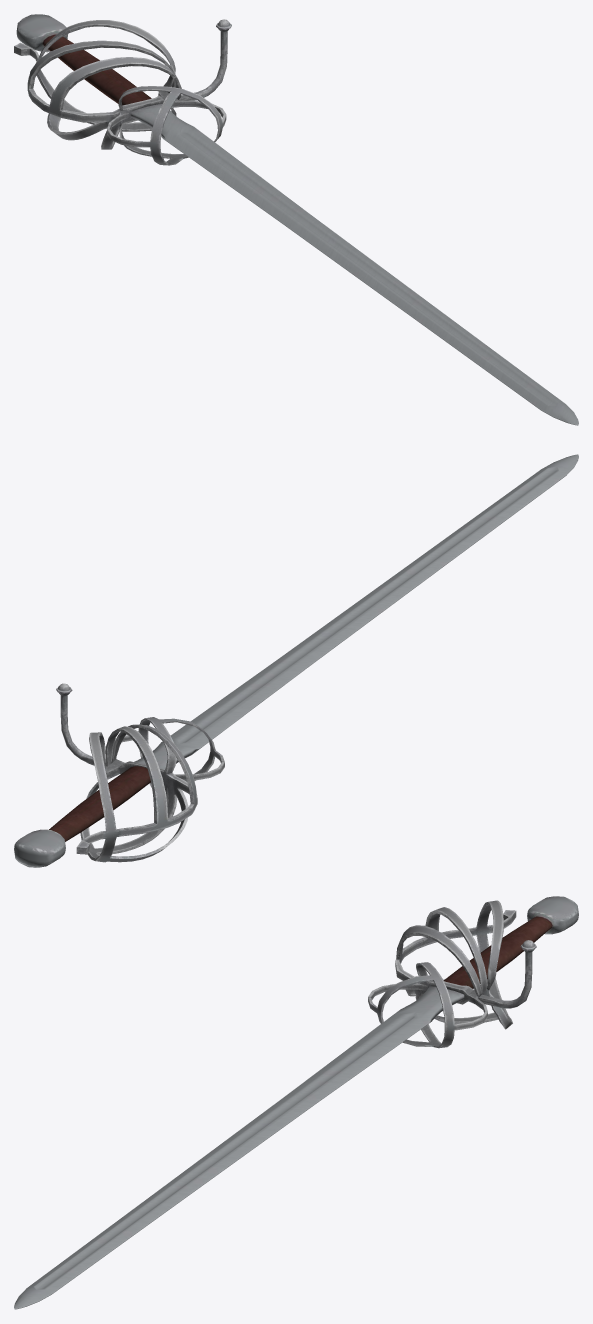
File: role-sword.draco.glb
The picture shows the model from 3 angles, top to bottom: view 1: azimuth 30°, elevation 25°; view 2: azimuth 150°, elevation 25°; view 3: azimuth 330°, elevation 25°; orthographic projection.
Parts seen in each view (by area): view 1: Blade, Guard, Pommel; view 2: Blade, Guard, Pommel; view 3: Blade, Guard, Pommel.
Part boxes in pixels (x1,y1,x2,y2): Blade: (130,104,578,425); Guard: (14,19,231,165); Pommel: (16,14,151,105); Blade: (134,454,578,769); Guard: (56,683,224,862); Pommel: (14,766,150,867); Blade: (14,986,464,1309); Guard: (368,900,536,1048); Pommel: (443,896,578,988).
Size of the model in its own units: 0.1862 by 0.1369 by 1.1.
1 material, 1 textured.
